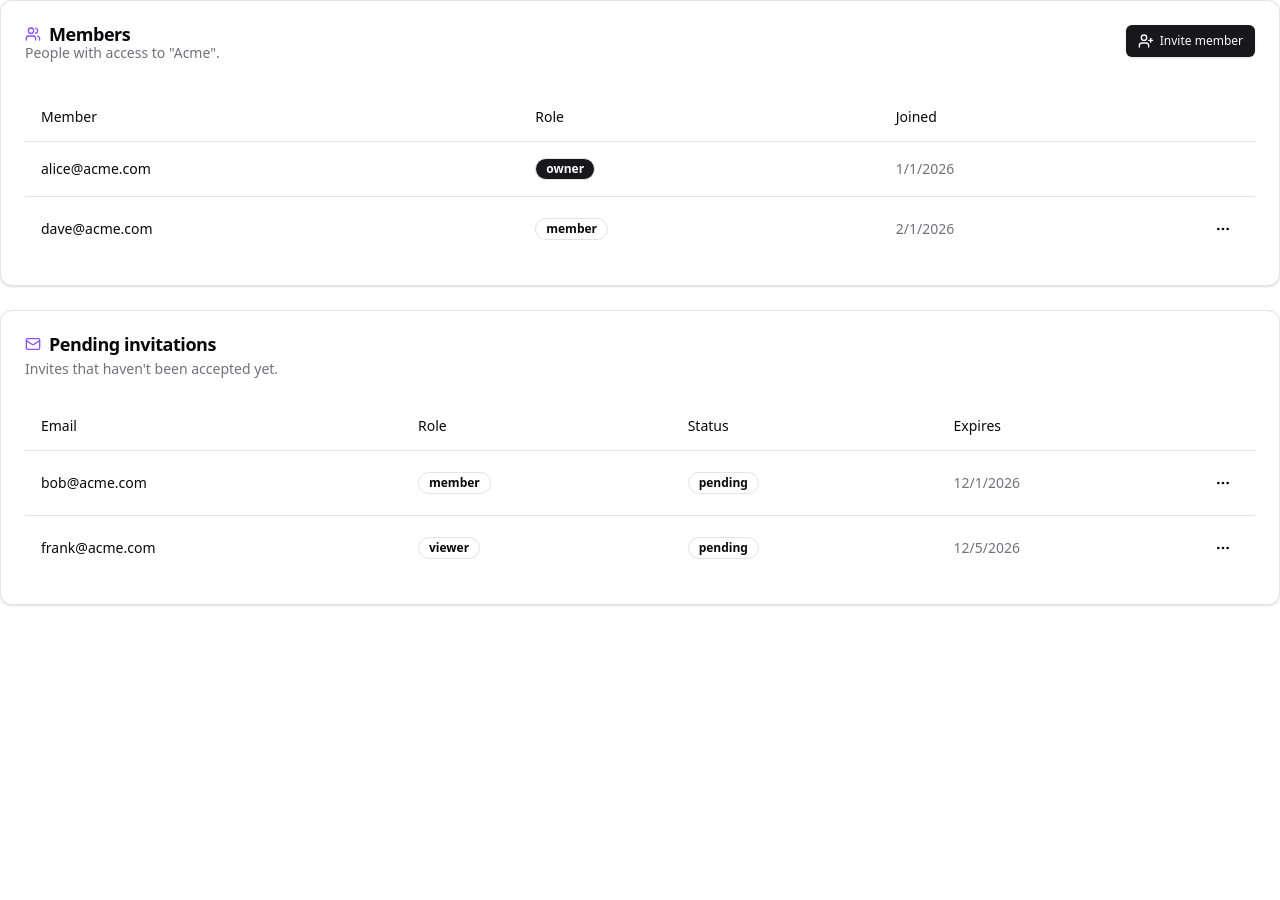
Test: WorkspaceMembers › creates an invite and surfaces the shareable accept URL
Check: the text "alice@acme.com" is shown, box [25,141,519,196]
Click the button "Invite member". click: (1190, 41)
box: [1126,25,1255,57]
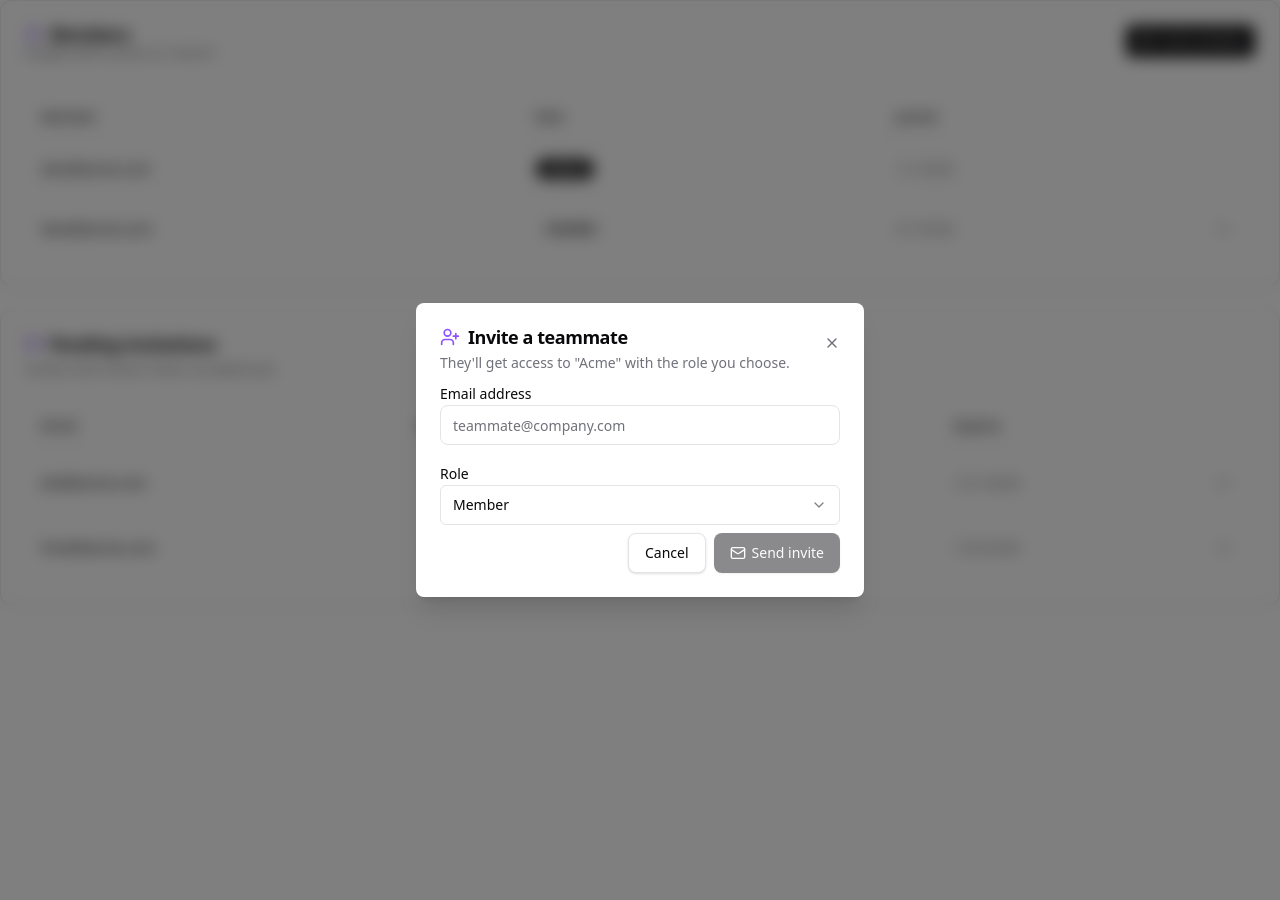
Type "carol@acme.com" into the field with placeholder "teammate@company.com". click: (640, 425)
box: [440,405,840,445]
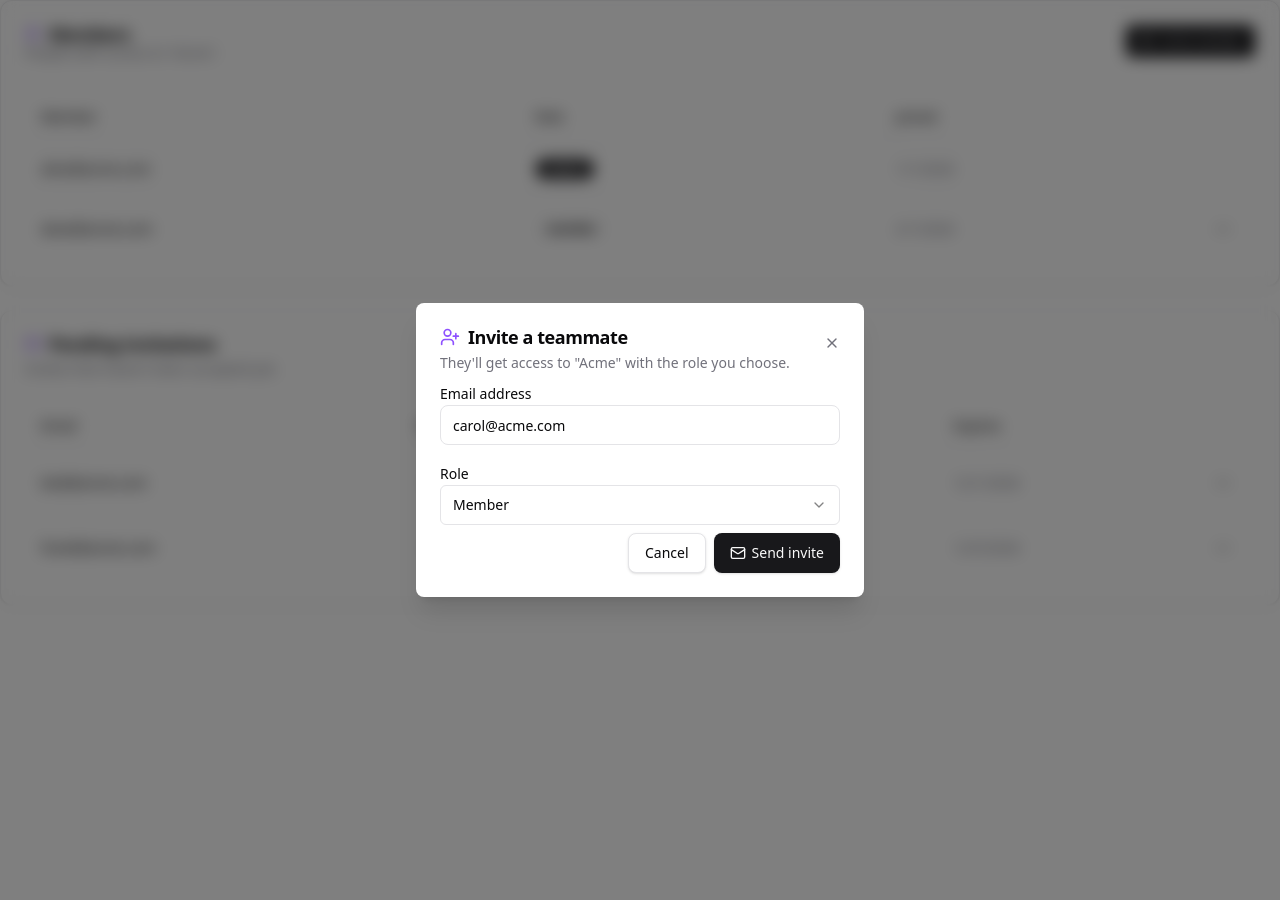
Click the button "Send invite". click: (777, 553)
box: [714,533,840,573]
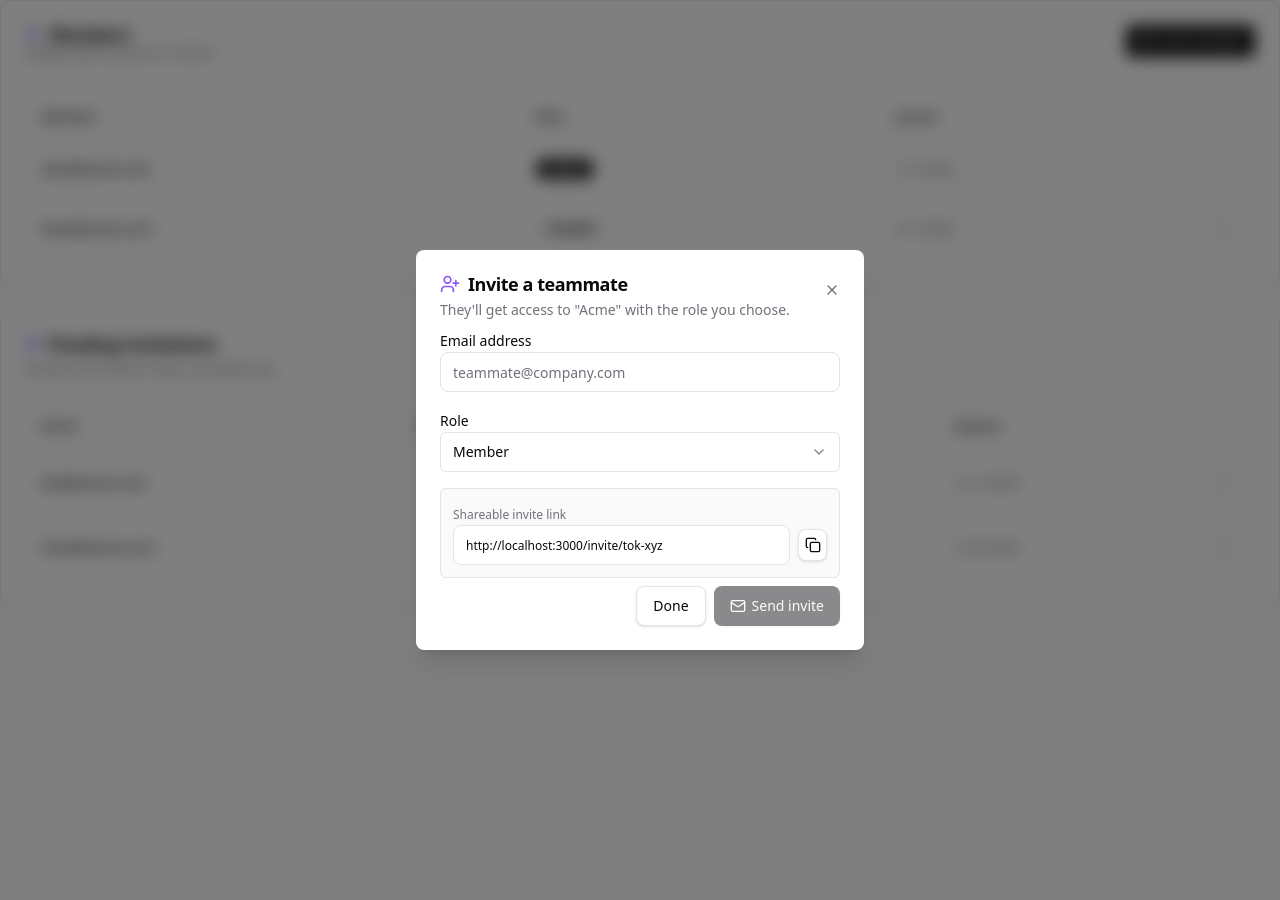
Check: the field showing "http://localhost:3000/invite/tok-xyz" is shown, box [453,525,790,565]
